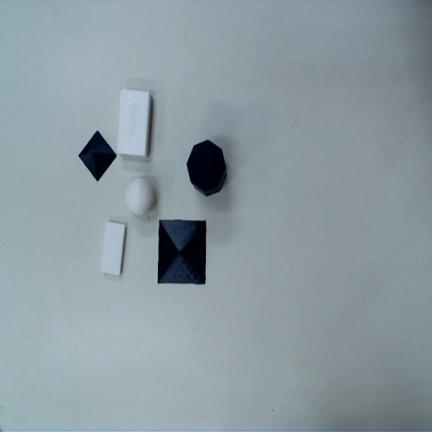Esfera: (125, 177, 155, 215)
Paralelepipedo: (117, 89, 151, 158), (101, 221, 126, 276)
Piramide: (157, 219, 206, 285), (78, 130, 117, 182)
Prisma_hexagonal: (186, 139, 227, 197)
